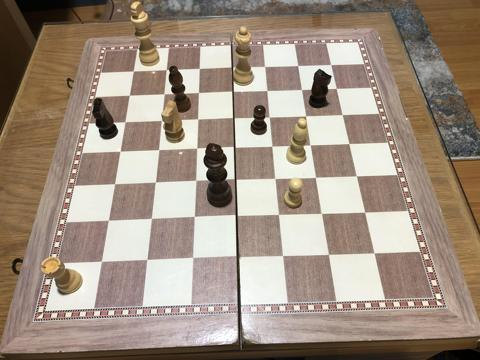xcorner: (292, 59, 304, 72), (295, 83, 308, 95), (156, 114, 168, 127), (149, 176, 162, 188), (324, 58, 336, 70), (259, 61, 271, 73), (226, 62, 238, 74), (194, 63, 206, 75), (161, 64, 173, 76), (128, 65, 140, 77), (330, 82, 342, 94), (261, 84, 273, 96), (227, 86, 239, 98), (193, 87, 205, 99), (158, 88, 170, 100), (124, 89, 136, 101), (336, 108, 348, 120), (300, 109, 312, 121), (264, 111, 276, 123), (228, 112, 240, 124), (192, 113, 204, 125), (120, 116, 132, 128), (342, 137, 354, 149), (305, 138, 317, 150), (267, 140, 279, 152), (229, 141, 241, 153), (191, 142, 203, 154), (153, 144, 165, 156), (115, 145, 127, 157), (350, 169, 362, 181), (310, 170, 322, 182), (270, 172, 282, 184), (230, 173, 242, 185), (190, 175, 202, 187), (109, 178, 121, 190), (358, 205, 370, 217), (316, 206, 328, 218), (273, 208, 285, 220), (231, 210, 243, 222), (188, 211, 200, 223), (146, 213, 158, 225), (103, 214, 115, 226), (367, 245, 379, 257), (322, 247, 334, 259), (277, 249, 289, 261), (232, 250, 244, 262), (187, 252, 199, 264), (142, 254, 154, 266), (96, 256, 108, 268)
